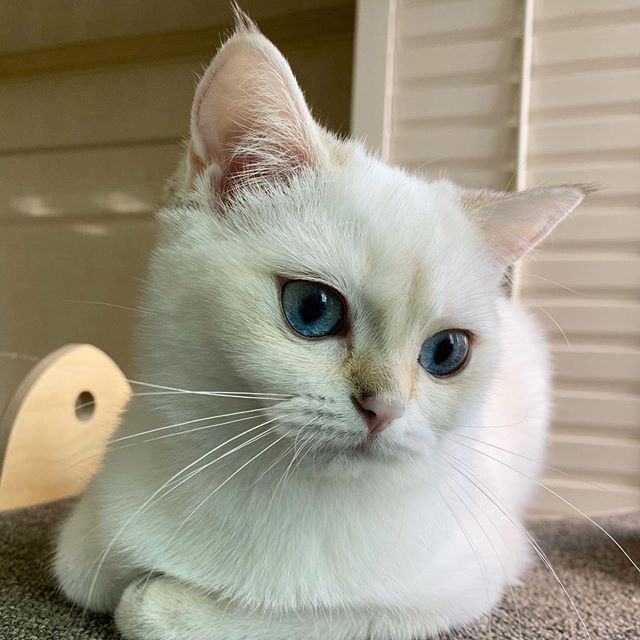cat: (147, 32, 587, 489)
